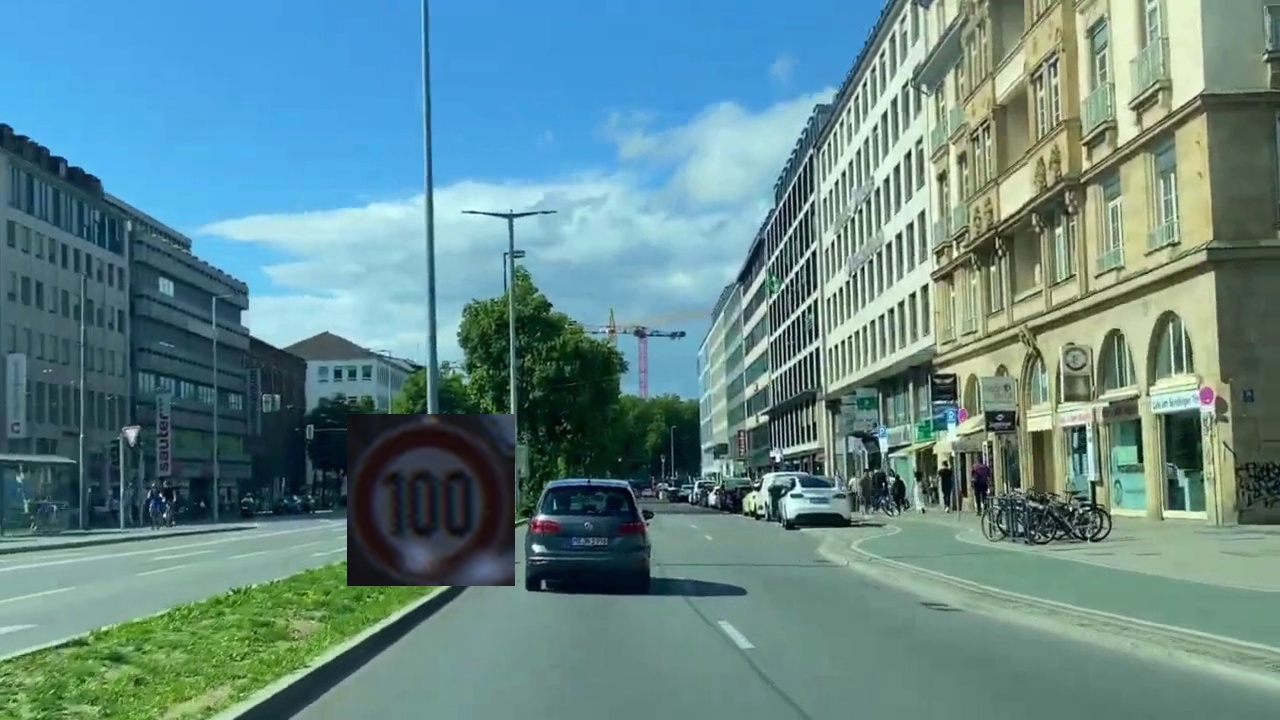Speed 100: (347, 414, 515, 586)
